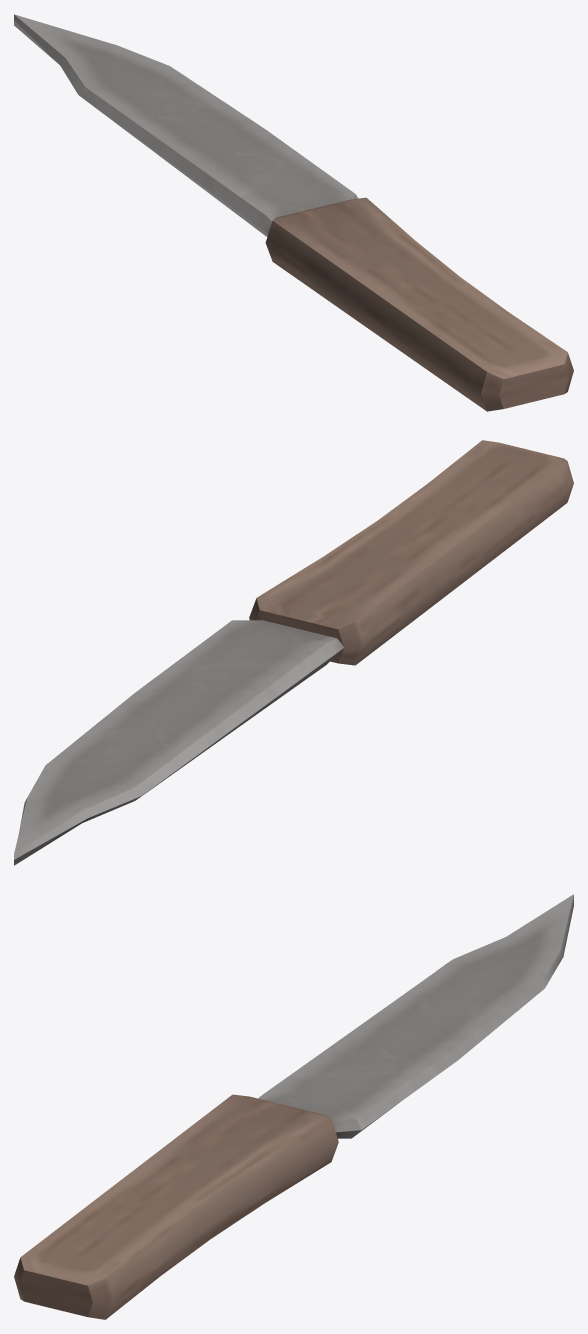
3 views of the same model, one above another, from view 1: azimuth 30°, elevation 25°; view 2: azimuth 150°, elevation 25°; view 3: azimuth 330°, elevation 25° (orthographic). The views are drawn at different scales.
Parts seen in each view (by area): view 1: submesh_0; view 2: submesh_0; view 3: submesh_0.
Part boxes in pixels (x1,y1,x2,y2): submesh_0: (14,14,573,411); submesh_0: (14,440,573,865); submesh_0: (14,894,573,1319).
Size of the model in its own units: 0.0601 by 0.021 by 0.4649.
Materials: 1 (1 with a texture image).
